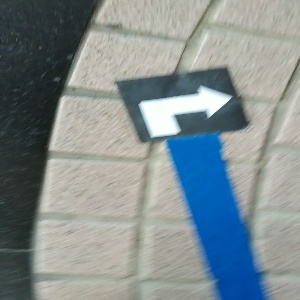right: (114, 65, 246, 144)
